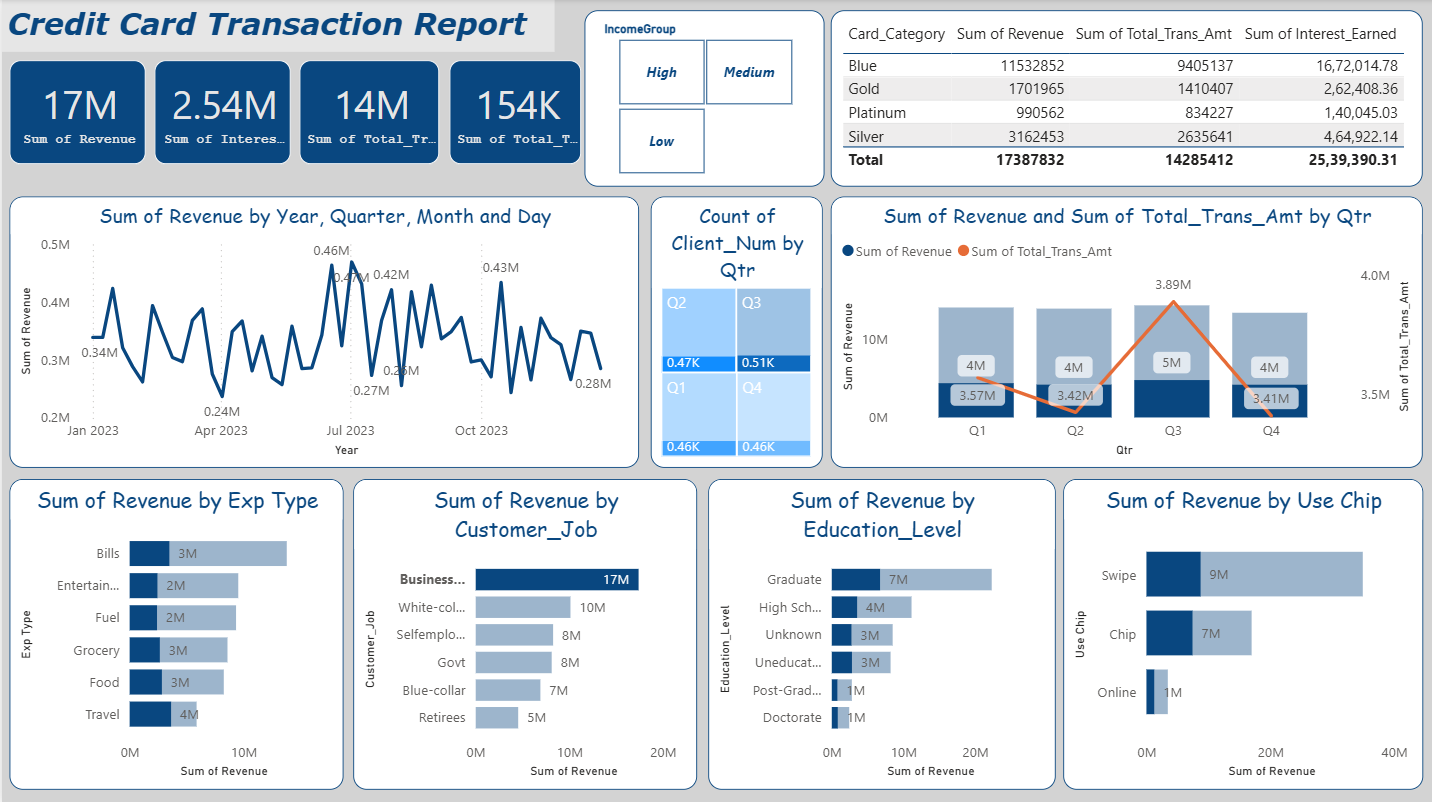

The dashboard page shown, as its layout file describes it:
{"tool":"powerbi","page":{"name":"Page 2","canvas":[1280,720],"ordinal":1},"visuals":[{"type":"textbox","box":[0,0,493.8,47.5],"z":0},{"type":"lineStackedColumnComboChart","fields":{"Y":["Sum(credit_card.Revenue)"],"Y2":["Sum(credit_card.Total_Trans_Amt)"],"Category":["credit_card.Qtr"]},"box":[740,176.2,528.8,242.5],"z":1000},{"type":"barChart","fields":{"Category":["credit_card.Exp Type"],"Y":["Sum(credit_card.Revenue)"]},"box":[6.2,428.8,298.8,277.5],"z":2000},{"type":"barChart","fields":{"Category":["customer.Customer_Job"],"Y":["Sum(credit_card.Revenue)"]},"box":[313.8,428.8,307.5,277.5],"z":3000},{"type":"barChart","fields":{"Category":["customer.Education_Level"],"Y":["Sum(credit_card.Revenue)"]},"box":[631.2,428.8,310,277.5],"z":4000},{"type":"barChart","fields":{"Category":["credit_card.Use Chip","credit_card.Card_Category"],"Y":["Sum(credit_card.Revenue)"]},"box":[947.5,428.8,321.2,277.5],"z":5000},{"type":"tableEx","fields":{"Values":["credit_card.Card_Category","Sum(credit_card.Revenue)","Sum(credit_card.Total_Trans_Amt)","Sum(credit_card.Interest_Earned)"]},"box":[740,10,528.8,157.5],"z":6000},{"type":"card","fields":{"Values":["Sum(credit_card.Revenue)"]},"box":[6.2,54.8,121.2,92.5],"z":7000},{"type":"card","fields":{"Values":["Sum(credit_card.Interest_Earned)"]},"box":[136.2,54.8,121.2,92.5],"z":8000},{"type":"card","fields":{"Values":["Sum(credit_card.Total_Trans_Amt)"]},"box":[266.2,54.8,125,92.5],"z":9000},{"type":"card","fields":{"Values":["Sum(credit_card.Total_Trans_Vol)"]},"box":[400,54.8,117.5,92.5],"z":10000},{"type":"slicer","fields":{"Values":["credit_card.Week_Start_Date"]},"box":[581.2,11.2,150,157.5],"z":11000},{"type":"treemap","fields":{"Group":["credit_card.Qtr"],"Values":["CountNonNull(credit_card.Client_Num)"]},"box":[580,176.2,153.8,242.5],"z":11001},{"type":"lineChart","fields":{"Y":["Sum(credit_card.Revenue)"],"Category":["credit_card.Week_Start_Date.Variation.Date Hierarchy.Year","credit_card.Week_Start_Date.Variation.Date Hierarchy.Quarter","credit_card.Week_Start_Date.Variation.Date Hierarchy.Month","credit_card.Week_Start_Date.Variation.Date Hierarchy.Day"]},"box":[6.2,176.2,562.5,242.5],"z":11002}]}

Visuals, with their boxes in screenshot pixels (x1, y1, x2, y2), scaled from the page's 1280x720 canvas onto the 1432x802 screenshot:
textbox: 0, 0, 552, 53
lineStackedColumnComboChart - Sum(credit_card.Revenue) x Sum(credit_card.Total_Trans_Amt): 828, 196, 1419, 466
barChart - credit_card.Exp Type x Sum(credit_card.Revenue): 7, 478, 341, 787
barChart - customer.Customer_Job x Sum(credit_card.Revenue): 351, 478, 695, 787
barChart - customer.Education_Level x Sum(credit_card.Revenue): 706, 478, 1053, 787
barChart - credit_card.Use Chip x credit_card.Card_Category: 1060, 478, 1419, 787
tableEx - credit_card.Card_Category x Sum(credit_card.Revenue): 828, 11, 1419, 187
card - Sum(credit_card.Revenue): 7, 61, 143, 164
card - Sum(credit_card.Interest_Earned): 152, 61, 288, 164
card - Sum(credit_card.Total_Trans_Amt): 298, 61, 438, 164
card - Sum(credit_card.Total_Trans_Vol): 447, 61, 579, 164
slicer - credit_card.Week_Start_Date: 650, 12, 818, 188
treemap - credit_card.Qtr x CountNonNull(credit_card.Client_Num): 649, 196, 821, 466
lineChart - Sum(credit_card.Revenue) x credit_card.Week_Start_Date.Variation.Date Hierarchy.Year: 7, 196, 636, 466
